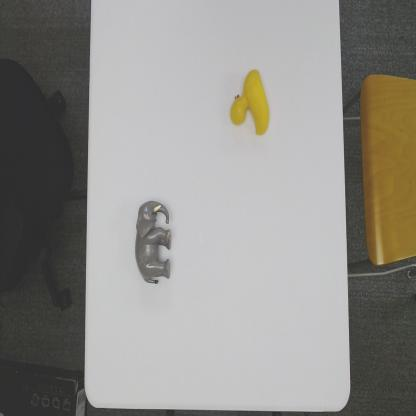Duck: (227, 65, 271, 139)
Elephant: (134, 198, 172, 286)
